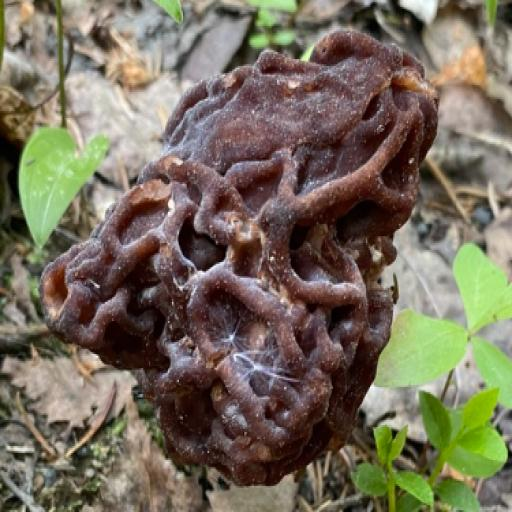False Morel: (27, 0, 512, 501)
